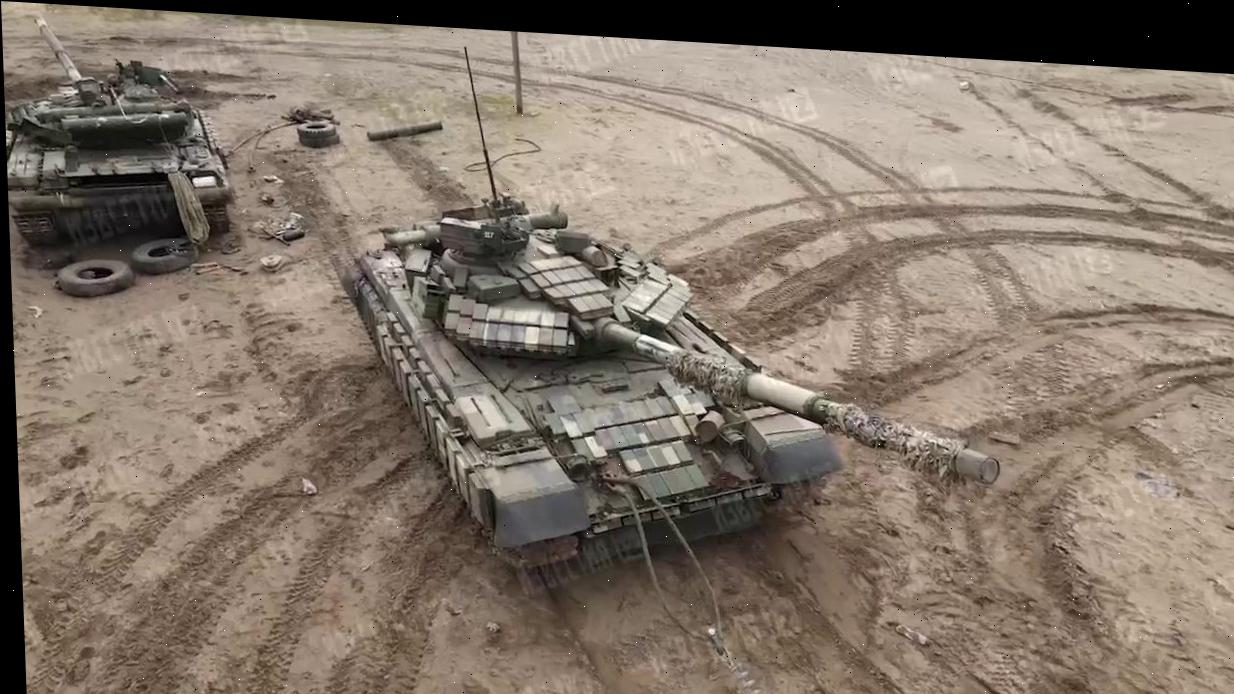tank: (344, 182, 1006, 593), (0, 10, 237, 263)
